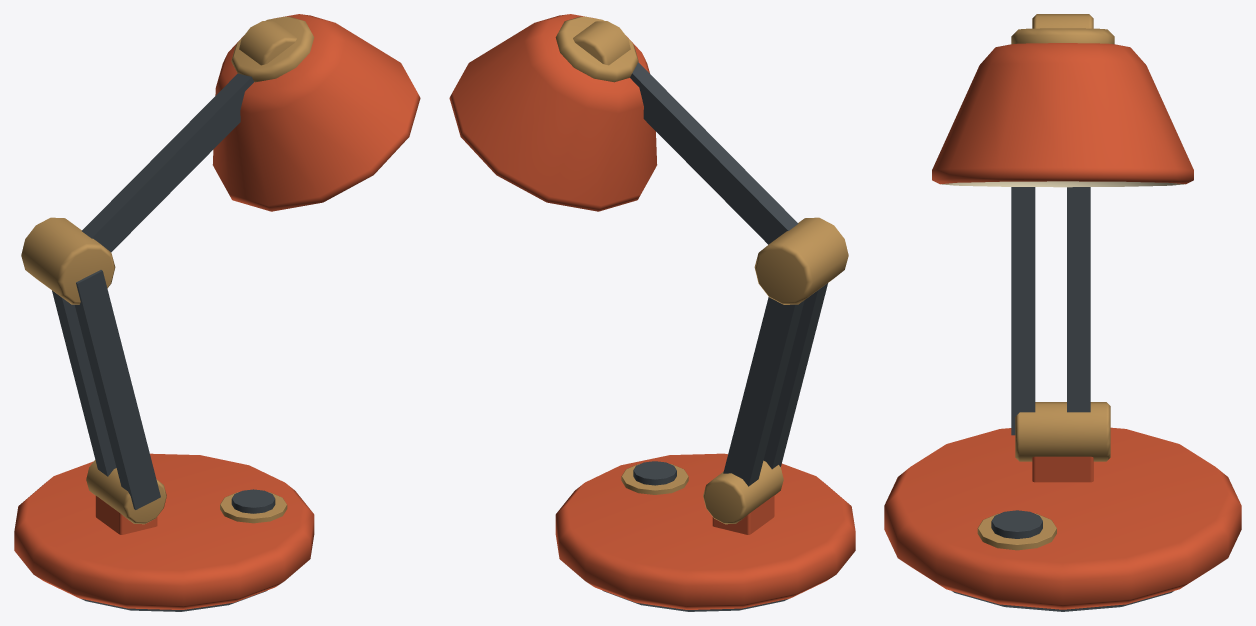
The model's file is desk-lamp.glb.
The picture shows the model from 3 angles, left to right: view 1: azimuth 30°, elevation 25°; view 2: azimuth 150°, elevation 25°; view 3: azimuth 270°, elevation 25°; orthographic projection. The views are drawn at different scales.
Parts seen in each view (by area): view 1: weighted-base, enamel-shade, lower-arm-front, upper-arm, elbow-hinge-pin, lower-arm-back, shade-cap, base-hinge-pin, head-hinge-pin, base-pedestal, switch-bezel, push-switch; view 2: weighted-base, enamel-shade, upper-arm, lower-arm-back, elbow-hinge-pin, lower-arm-front, base-hinge-pin, shade-cap, head-hinge-pin, base-pedestal, switch-bezel, push-switch; view 3: weighted-base, enamel-shade, lower-arm-front, lower-arm-back, base-hinge-pin, base-pedestal, shade-cap, switch-bezel, push-switch, inner-reflector, head-hinge-pin, rubber-foot.
Boxes of the visible parts, x1,y1,x2,y2 form: weighted-base: [14, 453, 314, 609]; enamel-shade: [212, 14, 420, 211]; lower-arm-front: [75, 270, 160, 509]; upper-arm: [82, 73, 253, 252]; elbow-hinge-pin: [21, 217, 115, 304]; lower-arm-back: [52, 290, 116, 476]; shade-cap: [231, 16, 314, 82]; base-hinge-pin: [86, 460, 166, 524]; head-hinge-pin: [239, 21, 296, 65]; base-pedestal: [95, 495, 157, 534]; switch-bezel: [220, 492, 287, 523]; push-switch: [231, 489, 275, 513]; weighted-base: [555, 453, 855, 609]; enamel-shade: [449, 14, 657, 211]; upper-arm: [630, 62, 798, 244]; lower-arm-back: [723, 297, 804, 486]; elbow-hinge-pin: [754, 217, 848, 304]; lower-arm-front: [763, 283, 827, 469]; base-hinge-pin: [703, 460, 783, 524]; shade-cap: [555, 16, 638, 82]; head-hinge-pin: [573, 21, 630, 65]; base-pedestal: [712, 495, 774, 534]; switch-bezel: [621, 464, 688, 494]; push-switch: [633, 461, 676, 485]; weighted-base: [884, 427, 1241, 609]; enamel-shade: [932, 43, 1193, 184]; lower-arm-front: [1011, 187, 1035, 435]; lower-arm-back: [1067, 187, 1090, 412]; base-hinge-pin: [1015, 402, 1110, 461]; base-pedestal: [1032, 456, 1093, 482]; shade-cap: [1011, 28, 1114, 44]; switch-bezel: [977, 513, 1056, 550]; push-switch: [991, 510, 1042, 538]; inner-reflector: [941, 181, 1184, 187]; head-hinge-pin: [1032, 14, 1093, 28]; rubber-foot: [952, 591, 1173, 611].
Size of the model in its own units: 0.2549 by 0.3312 by 0.18.
